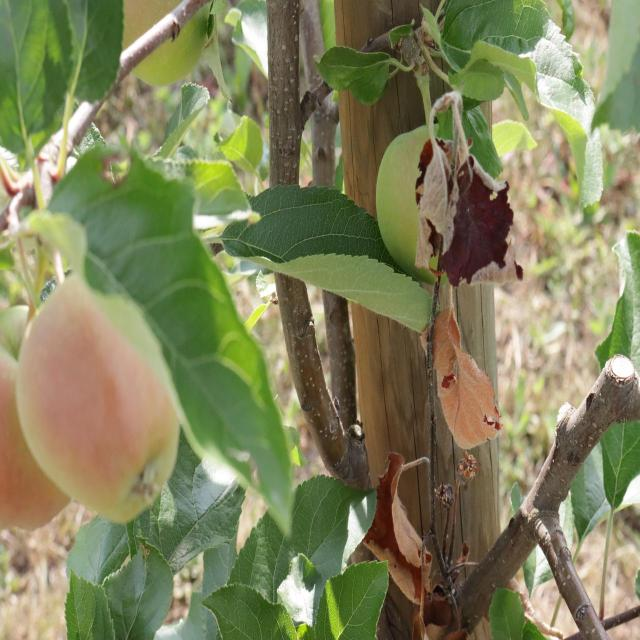-FireBlight-: (366, 94, 540, 640)
